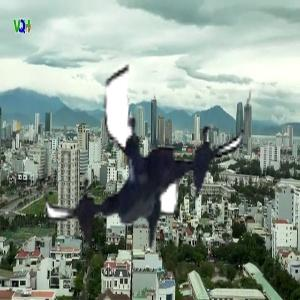drone: (34, 41, 258, 265)
